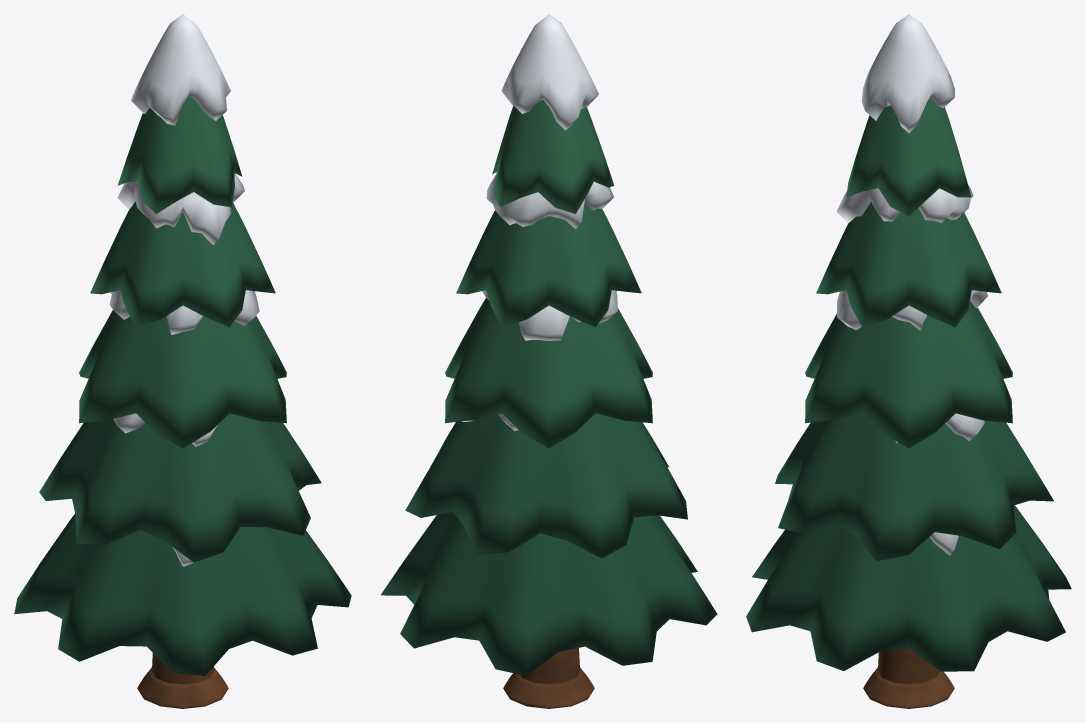
Rendered from tree_pine_b.glb.
3 renders of one model, left to right at view 1: azimuth 30°, elevation 25°; view 2: azimuth 150°, elevation 25°; view 3: azimuth 270°, elevation 25°, orthographic.
Parts seen in each view (by area): view 1: root; view 2: root; view 3: root.
Boxes of the visible parts, bbox=[...] form: root: bbox=[14, 14, 351, 708]; root: bbox=[381, 14, 717, 708]; root: bbox=[746, 14, 1071, 708].
Bounding box in the file's own units: 1.72 × 3.95 × 1.72.
Materials: 1 (1 with a texture image).
